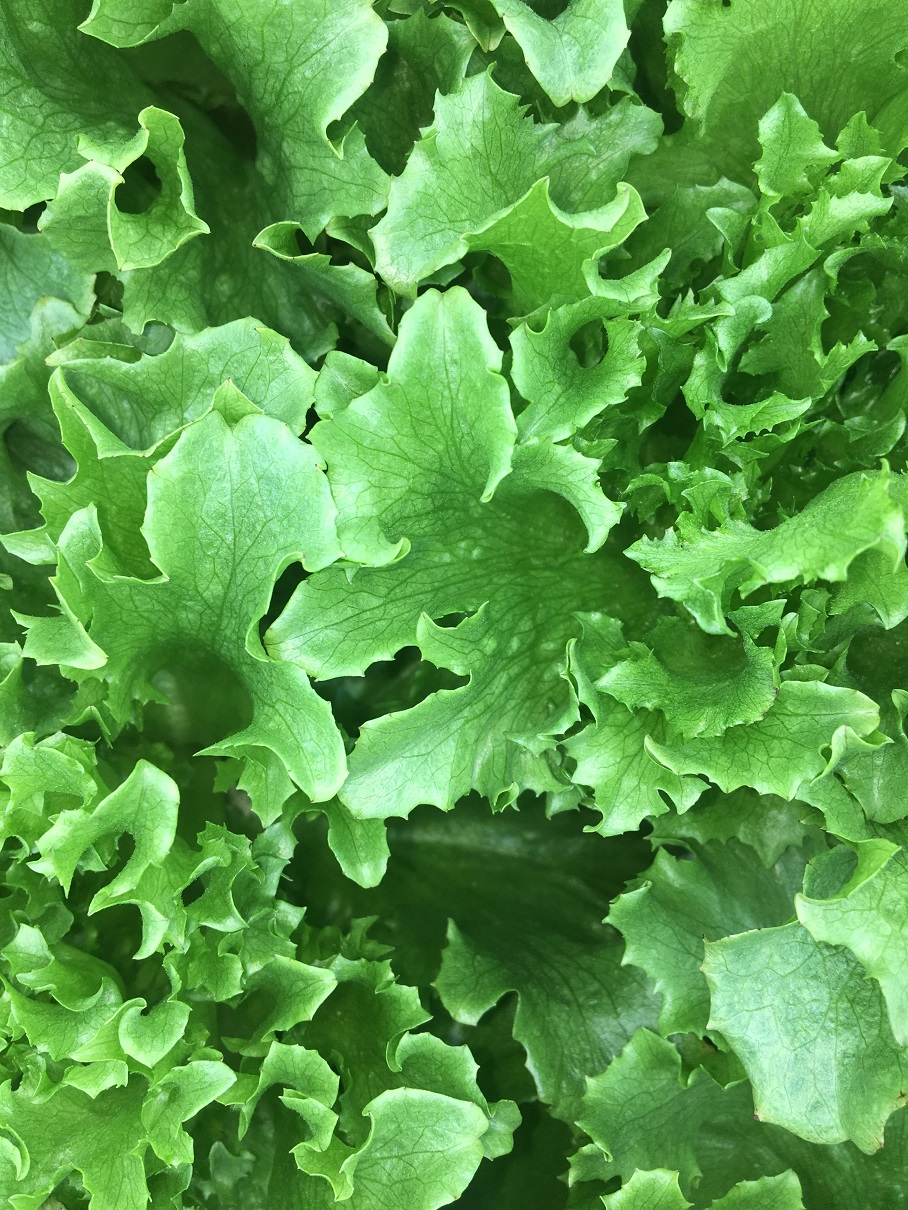tipburn: (863, 1085, 908, 1161), (732, 1097, 782, 1139), (208, 367, 249, 405), (757, 670, 795, 708), (129, 103, 164, 142), (97, 251, 141, 280), (29, 351, 67, 374), (512, 51, 541, 80), (29, 283, 67, 305), (610, 177, 644, 196)
